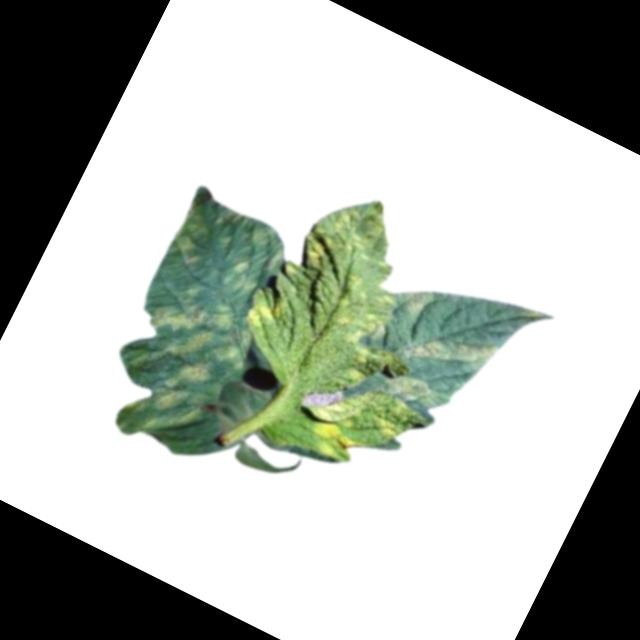Leaf_Mold: (102, 280, 259, 466), (268, 178, 430, 351), (189, 200, 293, 303), (397, 309, 499, 394), (301, 407, 375, 474), (373, 360, 448, 422), (157, 194, 220, 267), (242, 289, 288, 335)
